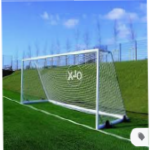goals: (19, 47, 128, 130)
